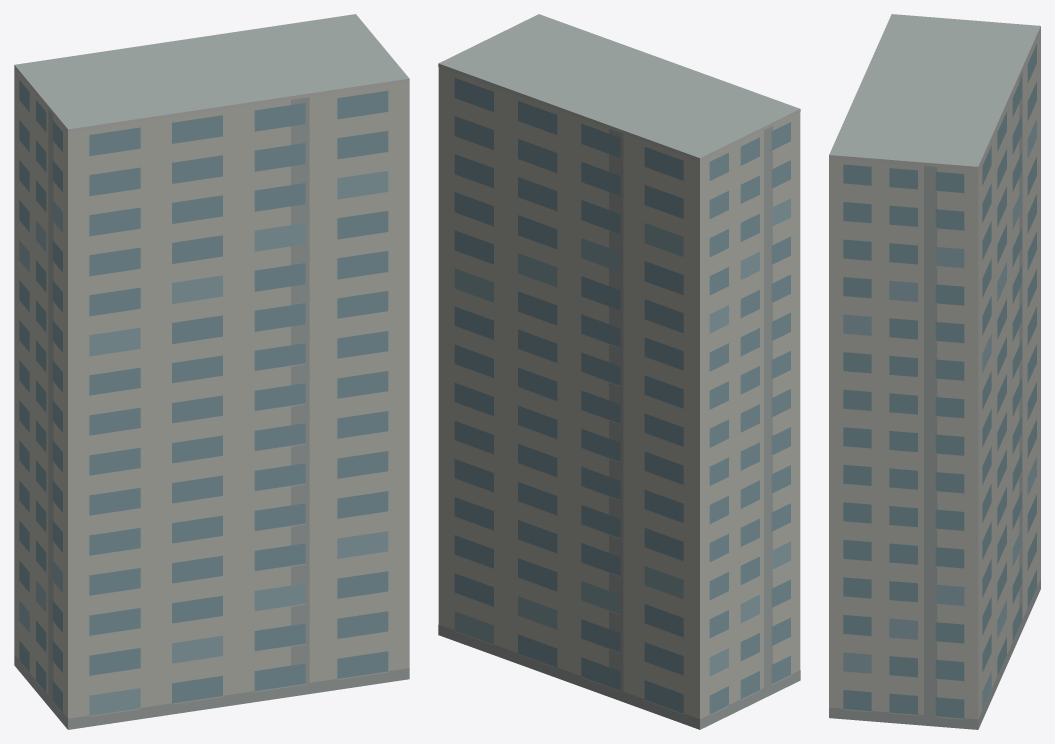
The model's file is residential-764c755a-fcc4-4f4e-bcbd-ff4586ea9a5e.glb.
3 renders of one model, left to right at view 1: azimuth 30°, elevation 25°; view 2: azimuth 150°, elevation 25°; view 3: azimuth 270°, elevation 25°, orthographic. The views are drawn at different scales.
Visible parts, largest first — view 1: residential-764c755a-fcc4-4f4e-bcbd-ff4586ea9a5e.tmp; view 2: residential-764c755a-fcc4-4f4e-bcbd-ff4586ea9a5e.tmp; view 3: residential-764c755a-fcc4-4f4e-bcbd-ff4586ea9a5e.tmp.
Boxes of the visible parts, x1=… form: residential-764c755a-fcc4-4f4e-bcbd-ff4586ea9a5e.tmp: x1=14, y1=14, x2=409, y2=729; residential-764c755a-fcc4-4f4e-bcbd-ff4586ea9a5e.tmp: x1=438, y1=14, x2=800, y2=729; residential-764c755a-fcc4-4f4e-bcbd-ff4586ea9a5e.tmp: x1=829, y1=14, x2=1040, y2=729.
Size of the model in its own units: 23.3 by 40 by 13.65.
